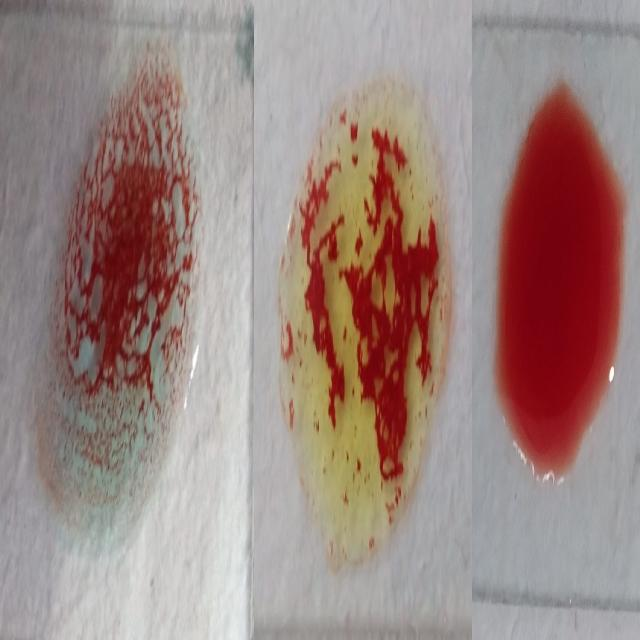A: (41, 24, 200, 543)
B: (282, 86, 451, 572)
